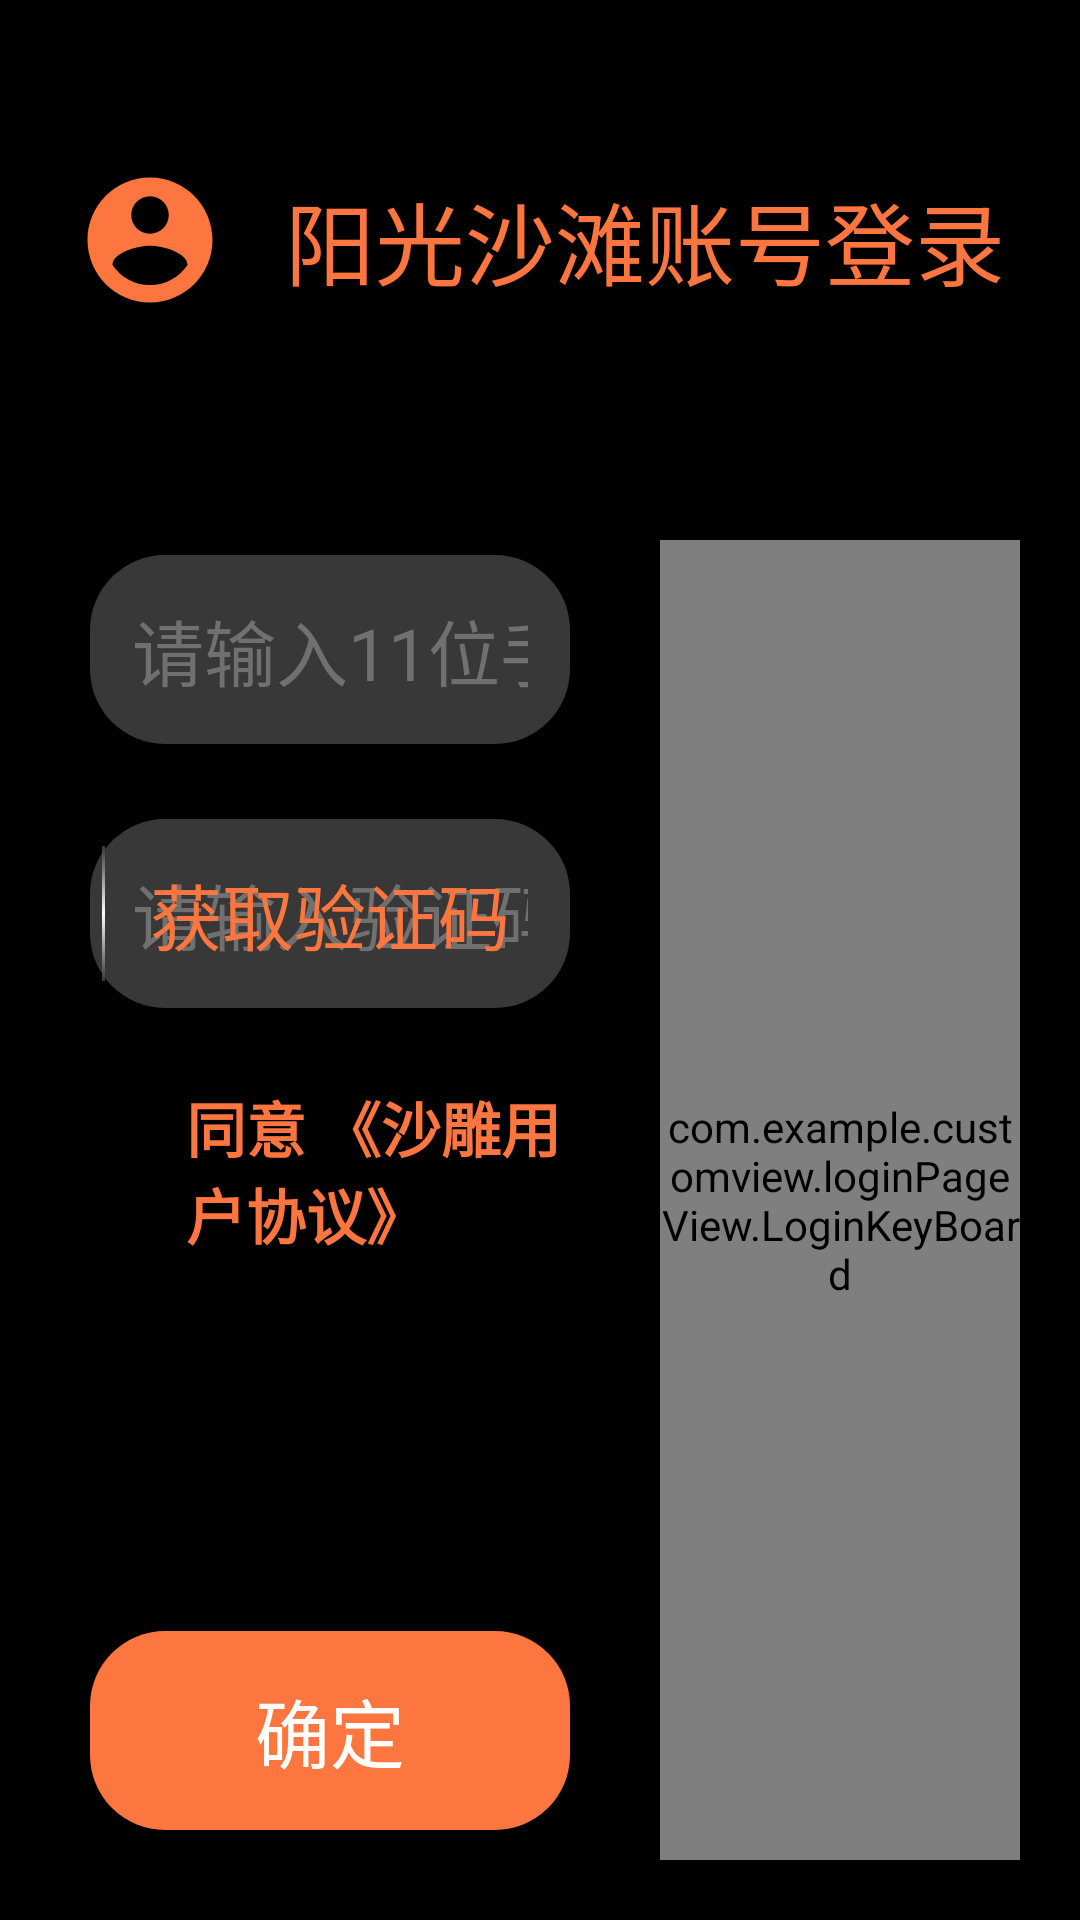

Icons on this 1080×1920 Android screen, each with its box as (x1, y1, x2, y2):
account circle brown: (87, 177, 213, 303)
